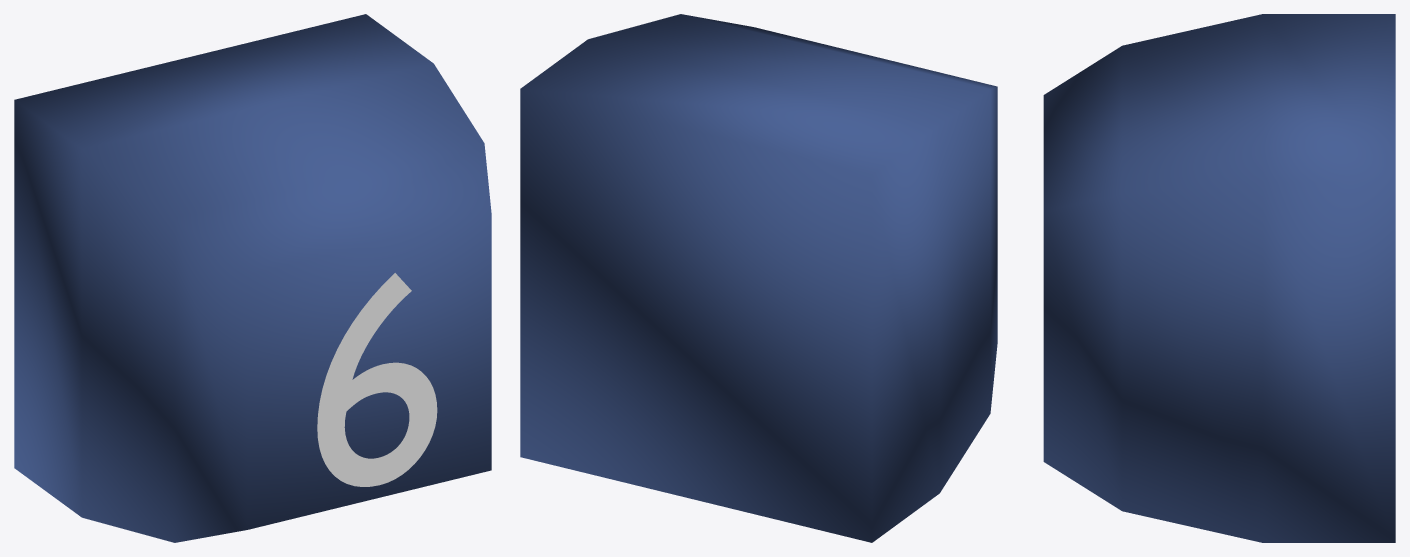
Rendered from lockbutton6.glb.
The picture shows the model from 3 angles, left to right: view 1: azimuth 30°, elevation 25°; view 2: azimuth 150°, elevation 25°; view 3: azimuth 270°, elevation 25°; orthographic projection. The views are drawn at different scales.
Visible parts, largest first — view 1: Text.005; view 2: Text.005; view 3: Text.005.
Boxes of the visible parts, x1,y1,x2,y2 form: Text.005: (14,14,491,542); Text.005: (520,14,997,542); Text.005: (1043,14,1395,542).
Bounding box in the file's own units: 0.0488 × 0.0488 × 0.0452.
